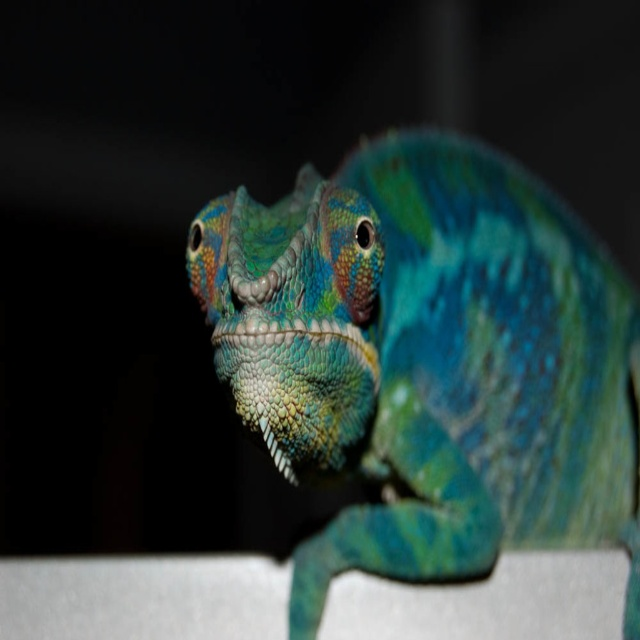Lizard: (193, 122, 620, 627)
